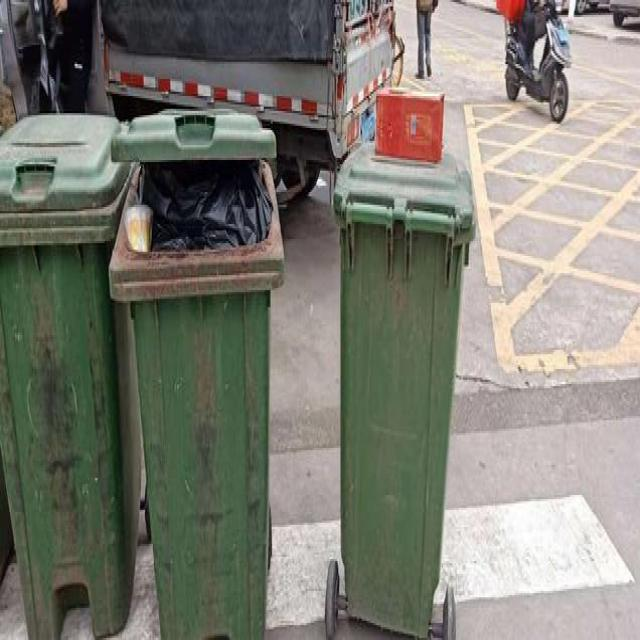garbage_bin: (0, 113, 139, 638)
overflow: (108, 104, 282, 638), (332, 87, 474, 638)
